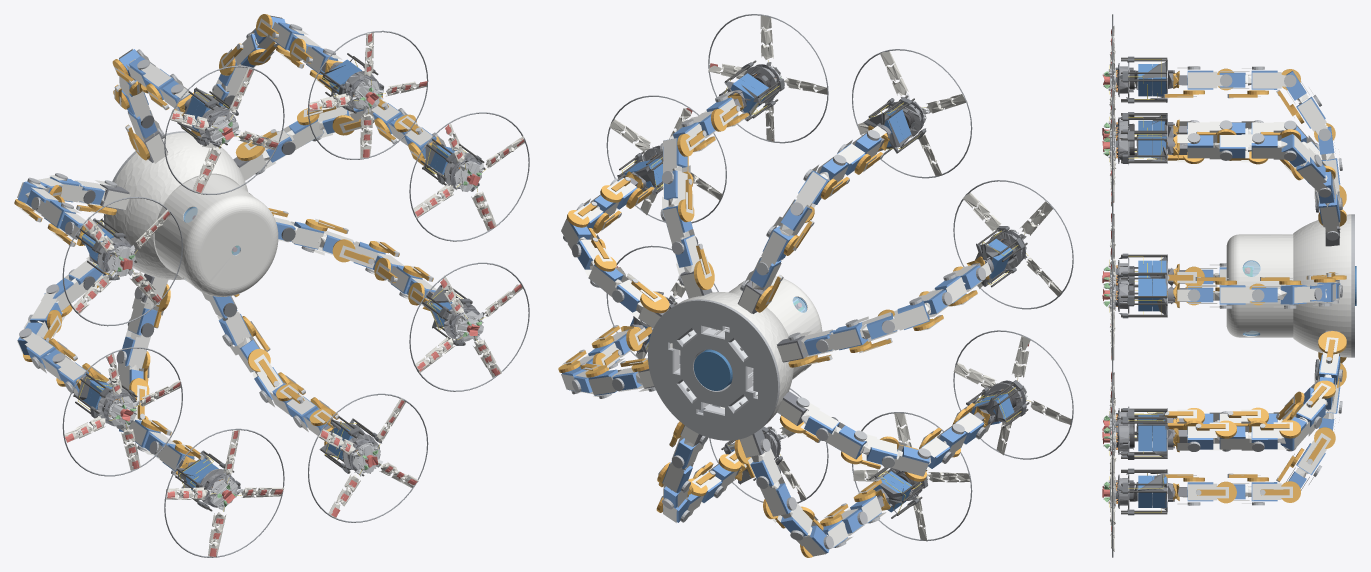
File: cephalo2_all_flight.glb
The picture shows the model from 3 angles, left to right: view 1: azimuth 30°, elevation 25°; view 2: azimuth 150°, elevation 25°; view 3: azimuth 270°, elevation 25°; orthographic projection. The views are drawn at different scales.
Visible parts, largest first — view 1: arms and hands|c0, turret shell|shell, arms and hands|c22, arms and hands|c7, arms and hands|c3, arms and hands|c23, arms and hands|c17, arms and hands|c4, arms and hands|c16, arms and hands|c13, arms and hands|c12, arms and hands|c6 (+7 smaller); view 2: arms and hands|c0, body|plate, arms and hands|c7, arms and hands|c22, arms and hands|c3, arms and hands|c6, arms and hands|c4, arms and hands|c23, turret shell|shell, arms and hands|c13, arms and hands|c12, arms and hands|c21 (+7 smaller); view 3: arms and hands|c0, turret shell|shell, arms and hands|c7, arms and hands|c3, arms and hands|c12, arms and hands|c13, arms and hands|c11, arms and hands|c4, arms and hands|c6, arms and hands|c21, arms and hands|c22, arms and hands|c23 (+13 smaller).
Boxes of the visible parts, left/top/right/bottom form: arms and hands|c0: left=17, top=15, right=445, bottom=479; turret shell|shell: left=105, top=132, right=278, bottom=296; arms and hands|c22: left=64, top=31, right=524, bottom=557; arms and hands|c7: left=17, top=16, right=436, bottom=471; arms and hands|c3: left=14, top=14, right=424, bottom=456; arms and hands|c23: left=62, top=30, right=529, bottom=557; arms and hands|c17: left=65, top=33, right=524, bottom=556; arms and hands|c4: left=22, top=22, right=433, bottom=460; arms and hands|c16: left=106, top=78, right=484, bottom=511; arms and hands|c13: left=73, top=58, right=482, bottom=509; arms and hands|c12: left=81, top=59, right=457, bottom=490; arms and hands|c6: left=19, top=23, right=440, bottom=475; arms and hands|c0: left=561, top=91, right=991, bottom=556; body|plate: left=647, top=299, right=779, bottom=440; arms and hands|c7: left=562, top=97, right=984, bottom=553; arms and hands|c22: left=609, top=15, right=1071, bottom=540; arms and hands|c3: left=558, top=108, right=969, bottom=557; arms and hands|c6: left=563, top=94, right=985, bottom=549; arms and hands|c4: left=566, top=105, right=977, bottom=530; arms and hands|c23: left=606, top=14, right=1073, bottom=541; turret shell|shell: left=670, top=276, right=822, bottom=427; arms and hands|c13: left=617, top=62, right=1026, bottom=514; arms and hands|c12: left=624, top=73, right=1014, bottom=512; arms and hands|c21: left=641, top=66, right=1022, bottom=500; arms and hands|c0: left=1177, top=67, right=1340, bottom=504; turret shell|shell: left=1226, top=214, right=1351, bottom=357; arms and hands|c7: left=1187, top=70, right=1340, bottom=501; arms and hands|c3: left=1183, top=68, right=1346, bottom=503; arms and hands|c12: left=1138, top=64, right=1166, bottom=507; arms and hands|c13: left=1115, top=56, right=1167, bottom=515; arms and hands|c11: left=1121, top=57, right=1167, bottom=514; arms and hands|c4: left=1165, top=90, right=1335, bottom=495; arms and hands|c6: left=1187, top=66, right=1342, bottom=505; arms and hands|c21: left=1118, top=62, right=1129, bottom=510; arms and hands|c22: left=1109, top=26, right=1116, bottom=551; arms and hands|c23: left=1112, top=14, right=1113, bottom=557.
Size of the model in its own units: 0.8962 by 0.8962 by 0.4441.
